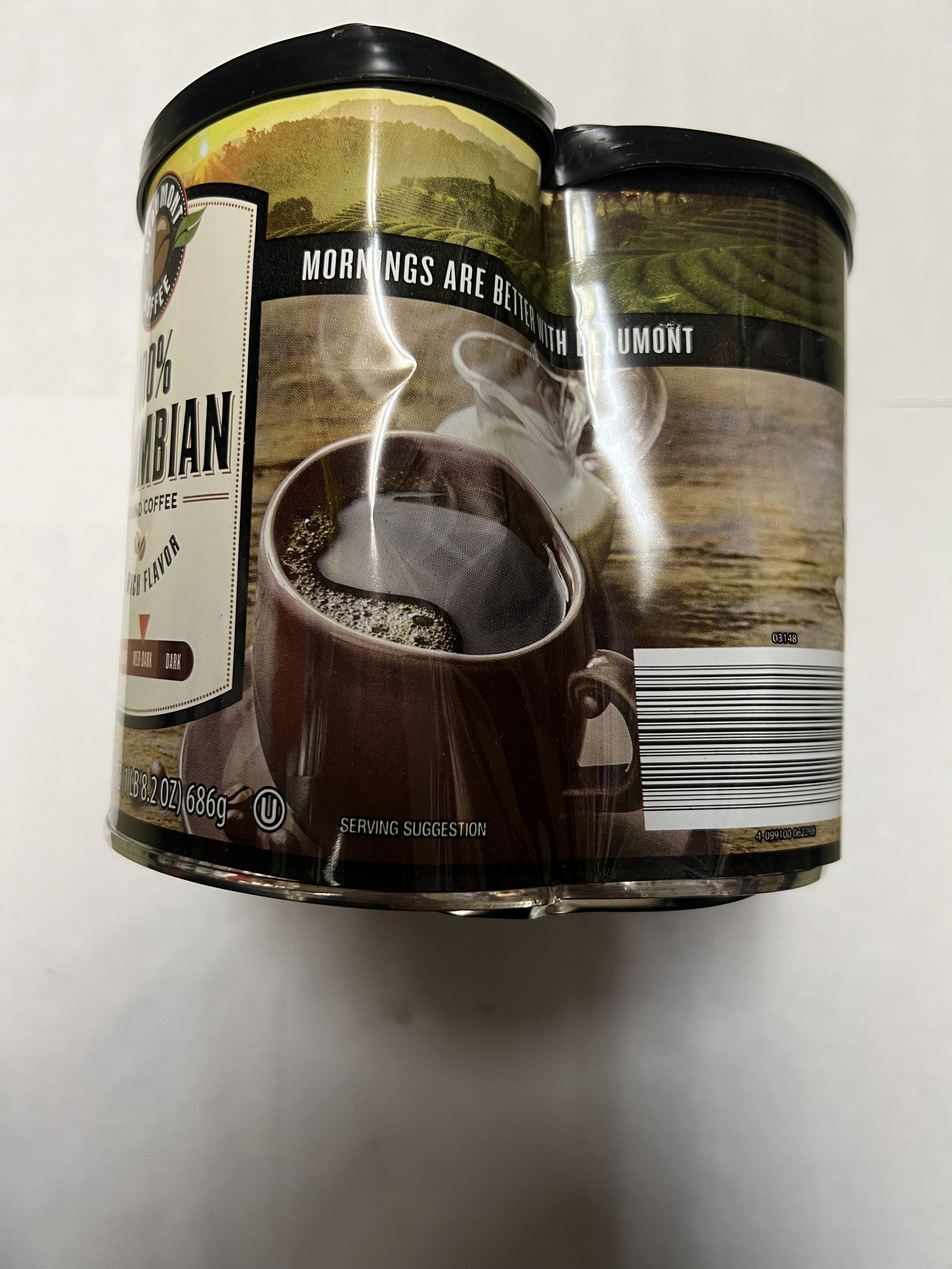packaged: (104, 34, 860, 923)
